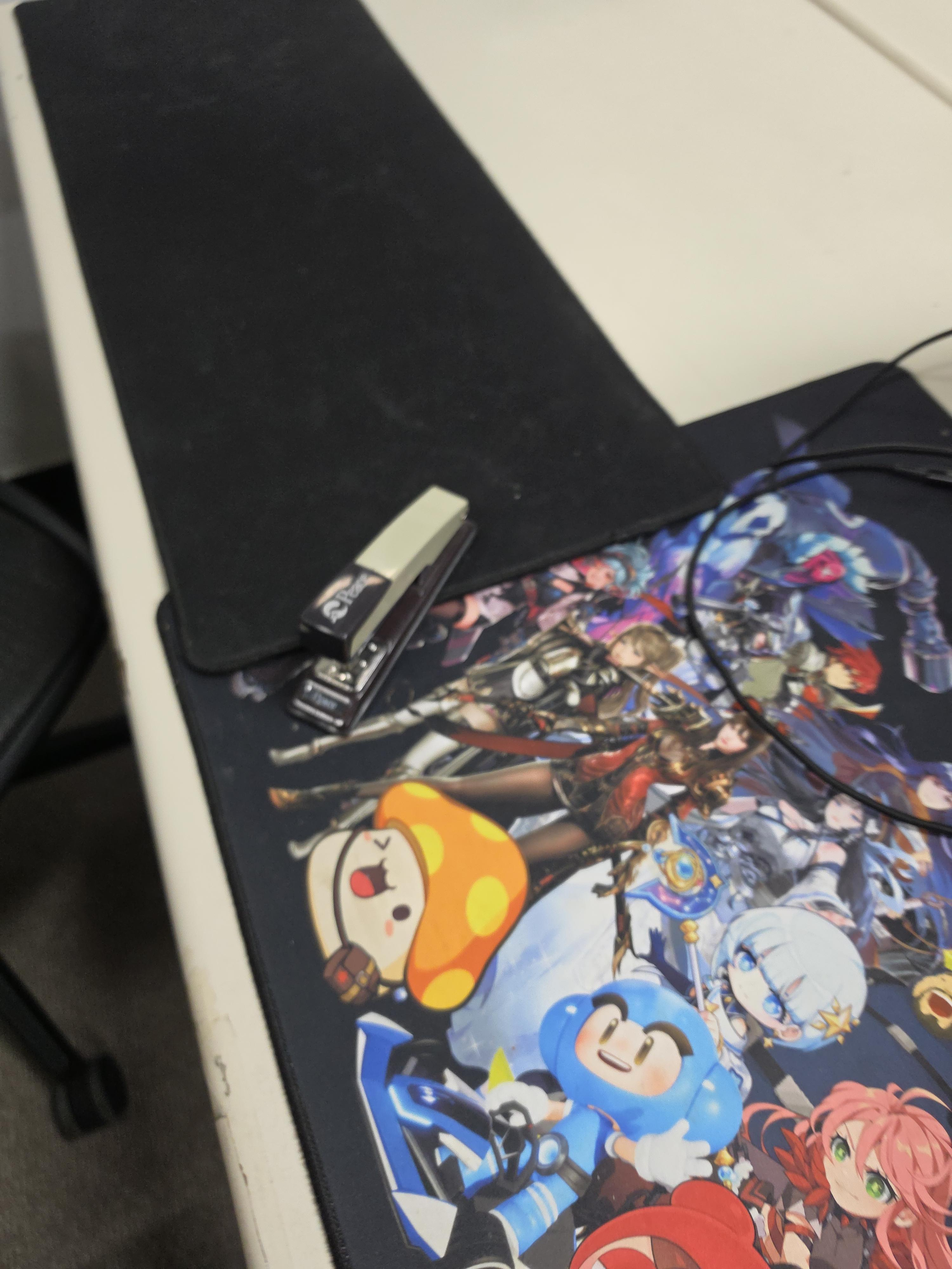stapler: (286, 483, 480, 737)
